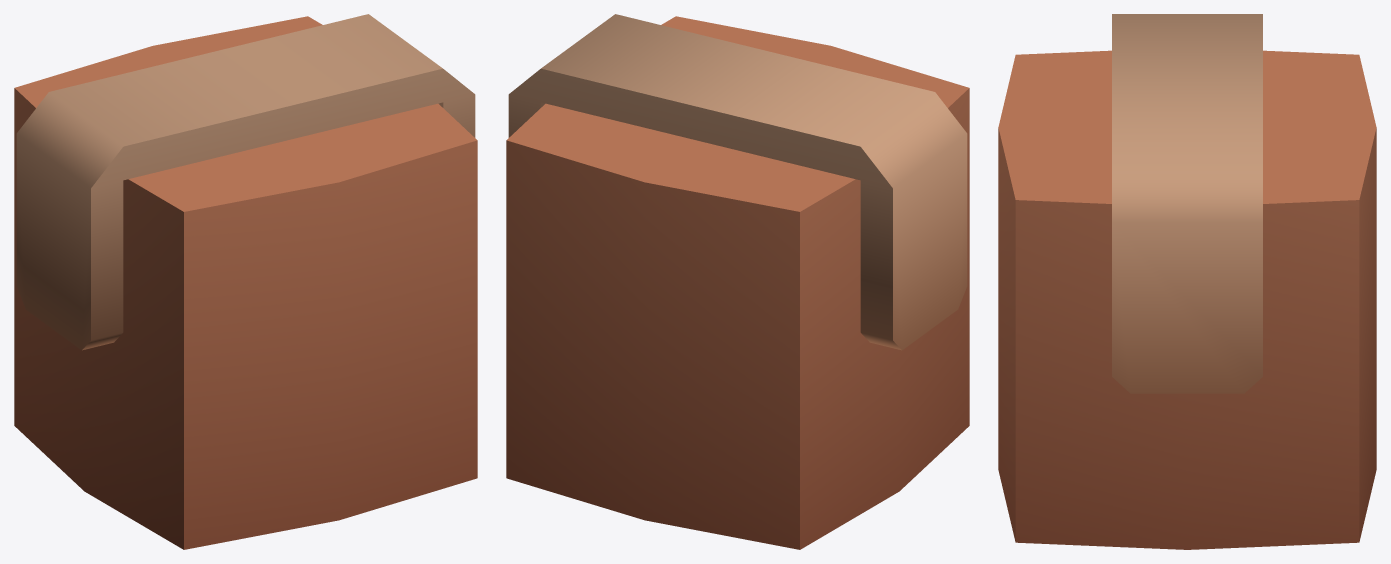
Rendered from box-small.glb.
The picture shows the model from 3 angles, left to right: view 1: azimuth 30°, elevation 25°; view 2: azimuth 150°, elevation 25°; view 3: azimuth 270°, elevation 25°; orthographic projection.
Visible parts, largest first — view 1: box-small; view 2: box-small; view 3: box-small.
Part boxes in pixels (box(x1,y1,x2,y2)): box-small: box(14, 14, 477, 549); box-small: box(506, 14, 969, 549); box-small: box(998, 14, 1376, 549).
Bounding box in the file's own units: 0.595 × 0.55 × 0.5.
